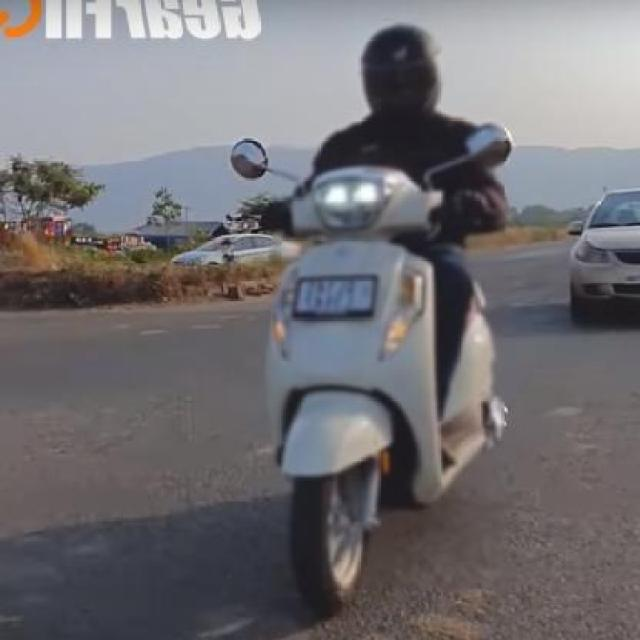helmet: (340, 22, 454, 132)
motorcycle: (181, 13, 546, 628)
